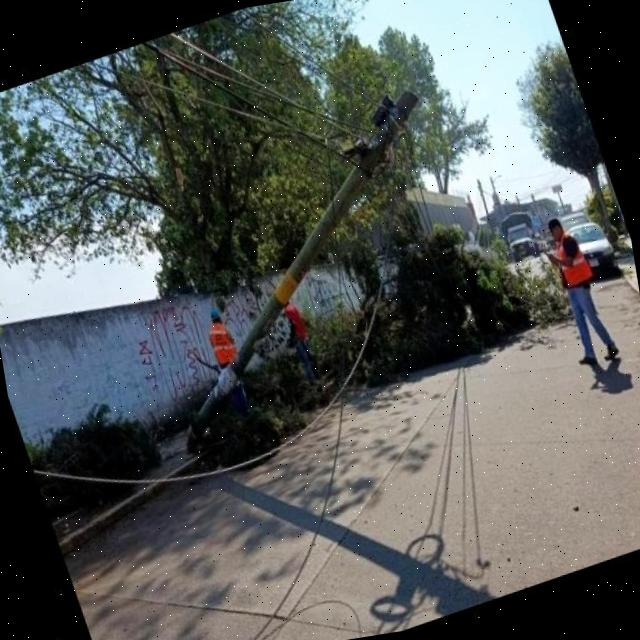Broken Pole: (183, 88, 419, 449)
